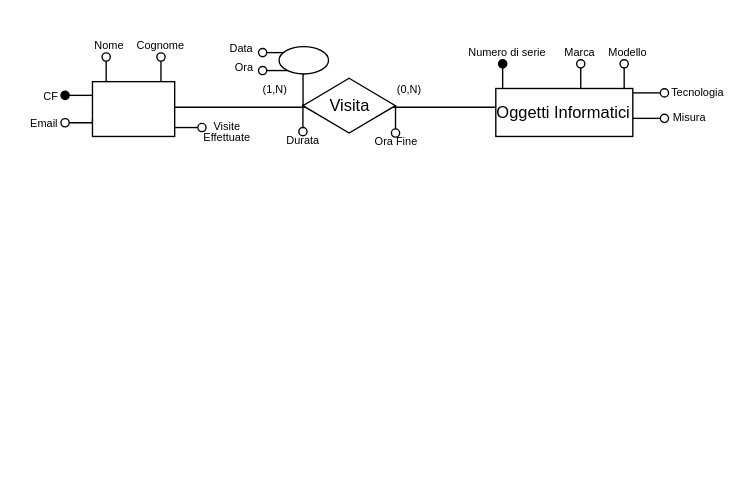
The diagram is 754 pixels wide and 492 high, and some of its shapes have lost their labels. Each missing label, with the box of its shape:
DataVisita: (278, 45, 329, 74)
Visitatore: (91, 80, 175, 136)
